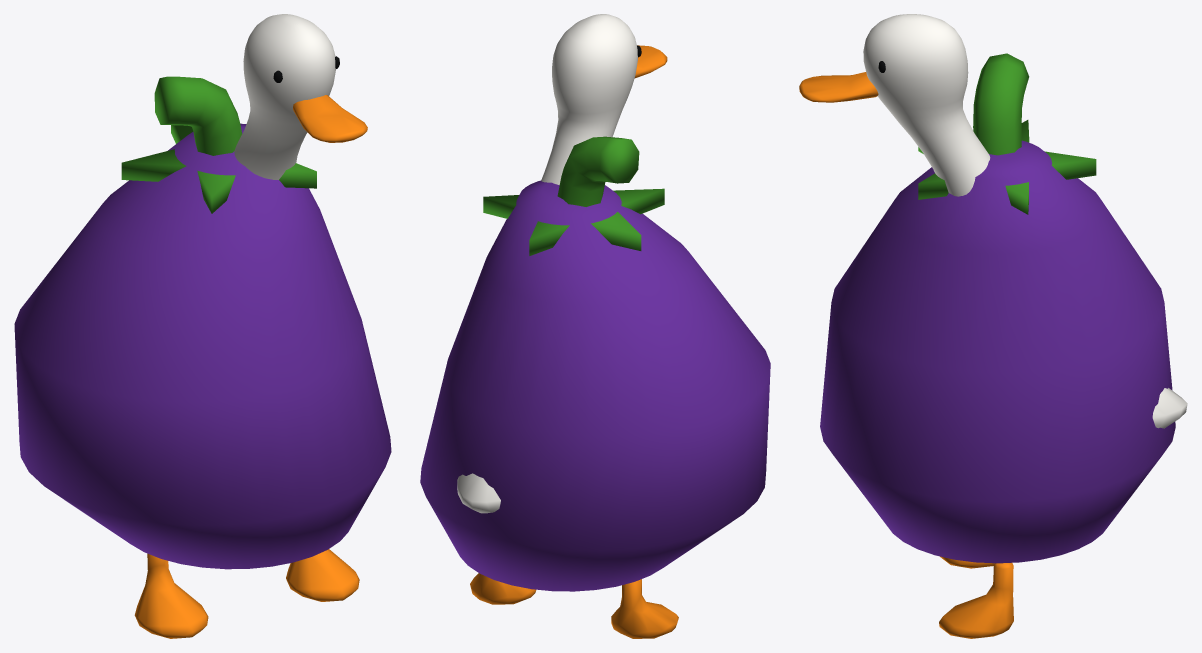
Rendered from duck-eggplant.glb.
3 renders of one model, left to right at view 1: azimuth 30°, elevation 25°; view 2: azimuth 150°, elevation 25°; view 3: azimuth 270°, elevation 25°, orthographic. The views are drawn at different scales.
Visible parts, largest first — view 1: duck-eggplant; view 2: duck-eggplant; view 3: duck-eggplant.
Part boxes in pixels (x1,y1,x2,y2): duck-eggplant: (14,14,391,638); duck-eggplant: (420,14,770,638); duck-eggplant: (799,14,1187,638).
Bounding box in the file's own units: 0.5644 × 1 × 0.6038.
Materials: 1 (1 with a texture image).
